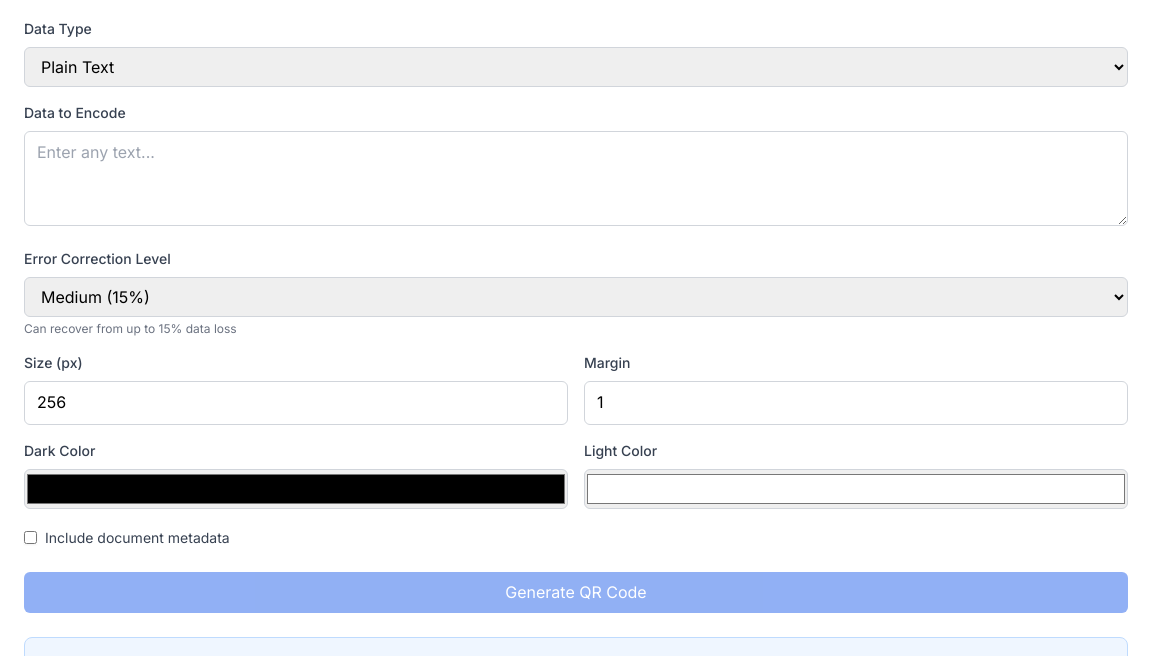
Test case: QRCodeGenerator › validates email input correctly
// Select email data type
Select "Email Address" in the dropdown labelled "Data Type" at (576, 67), box [24,47,1128,87]
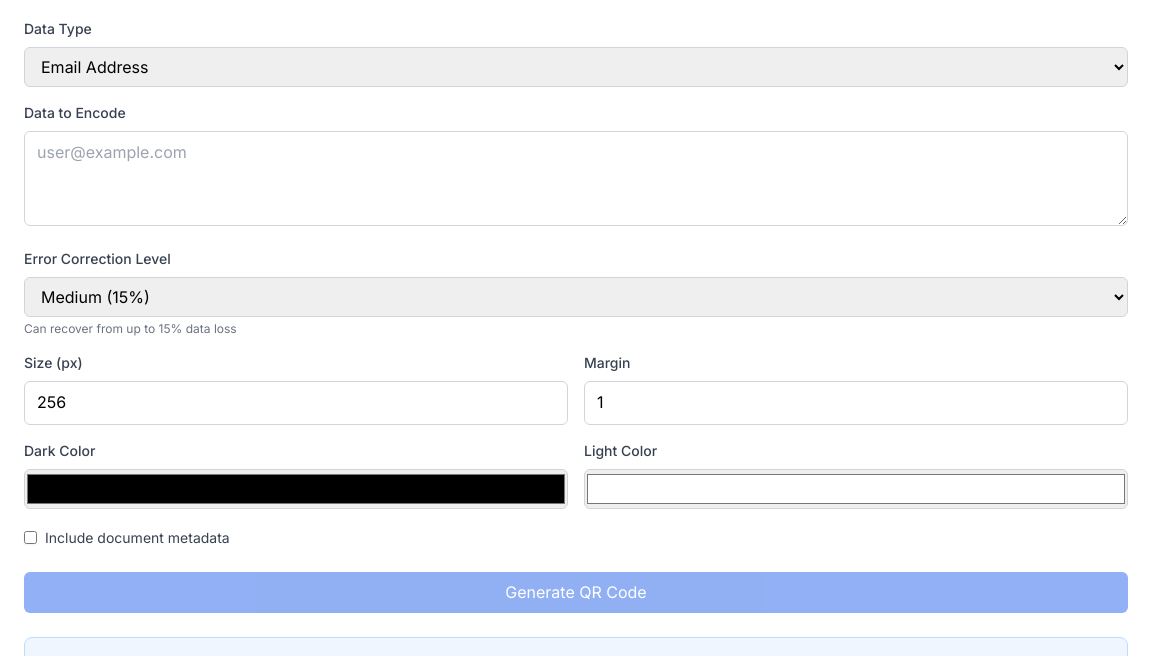
// Enter invalid email
Type "invalid-email" into the text box labelled "Data to Encode" at (576, 178), box [24,131,1128,226]
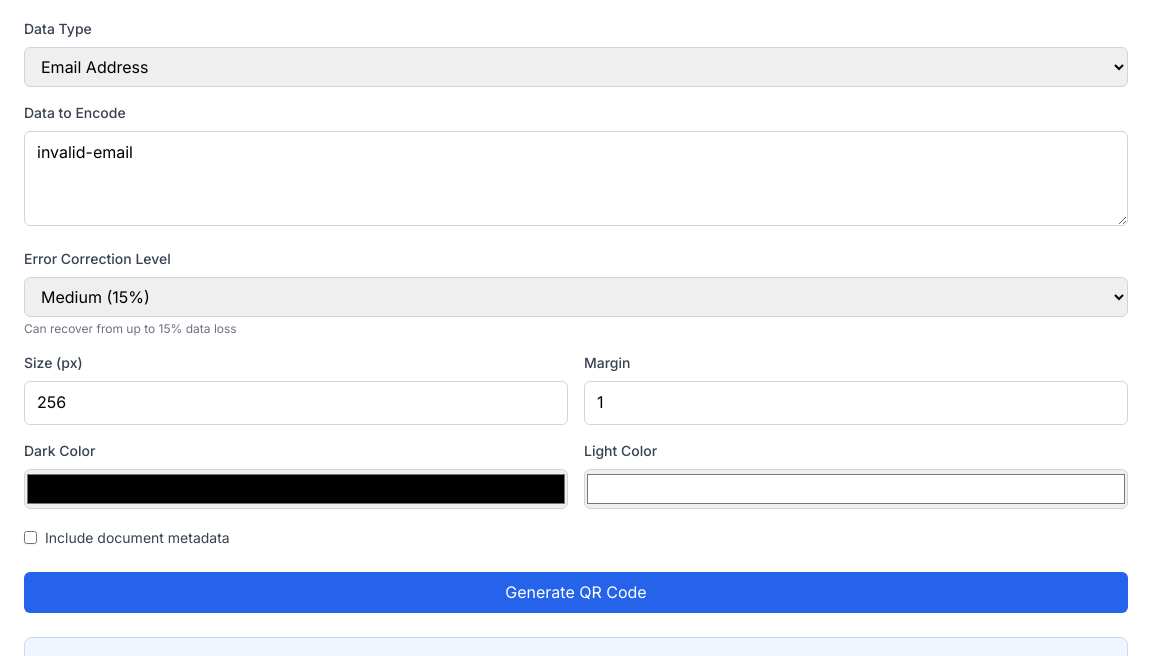
Click the button "Generate QR Code" at (576, 592), box [24,572,1128,613]
(page scrolled)
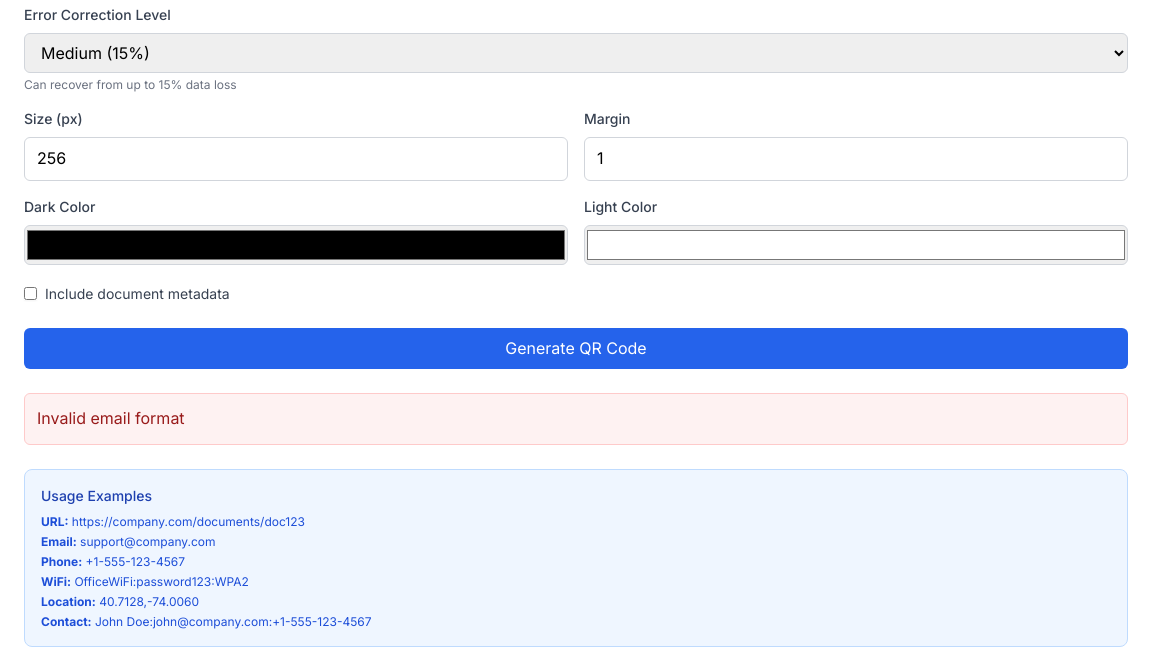
expect the text "Invalid email format" is shown: met, box [24,393,1128,445]
